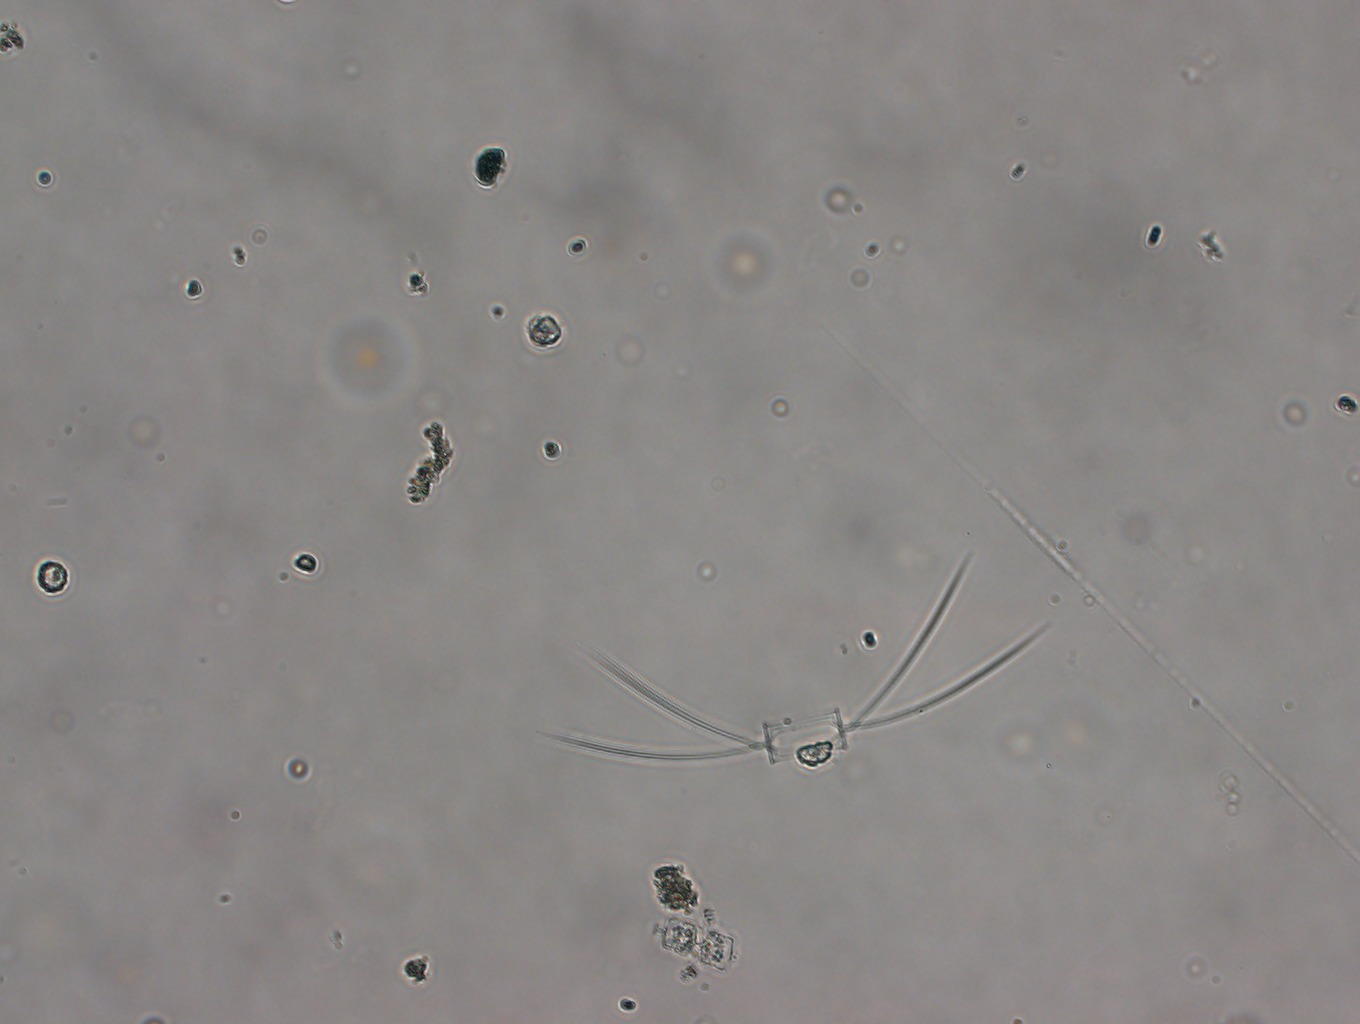chaetoceros: (533, 527, 1053, 784)
